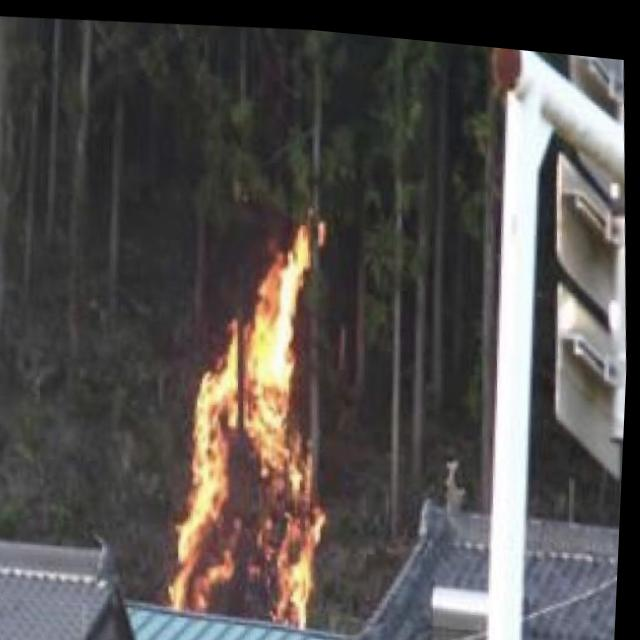Fire: (159, 202, 349, 629)
